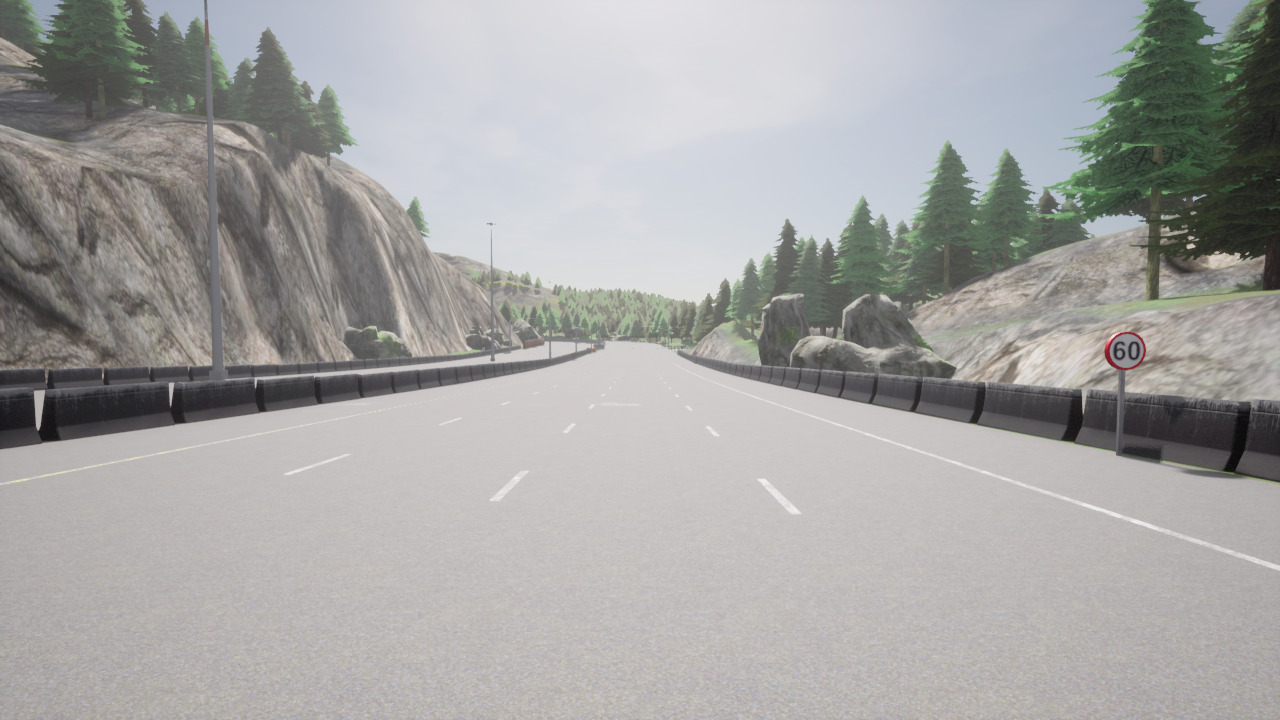sl60: (1103, 330, 1147, 371)
